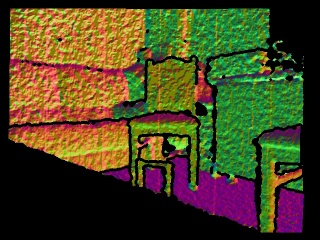station: (135, 160, 172, 199)
